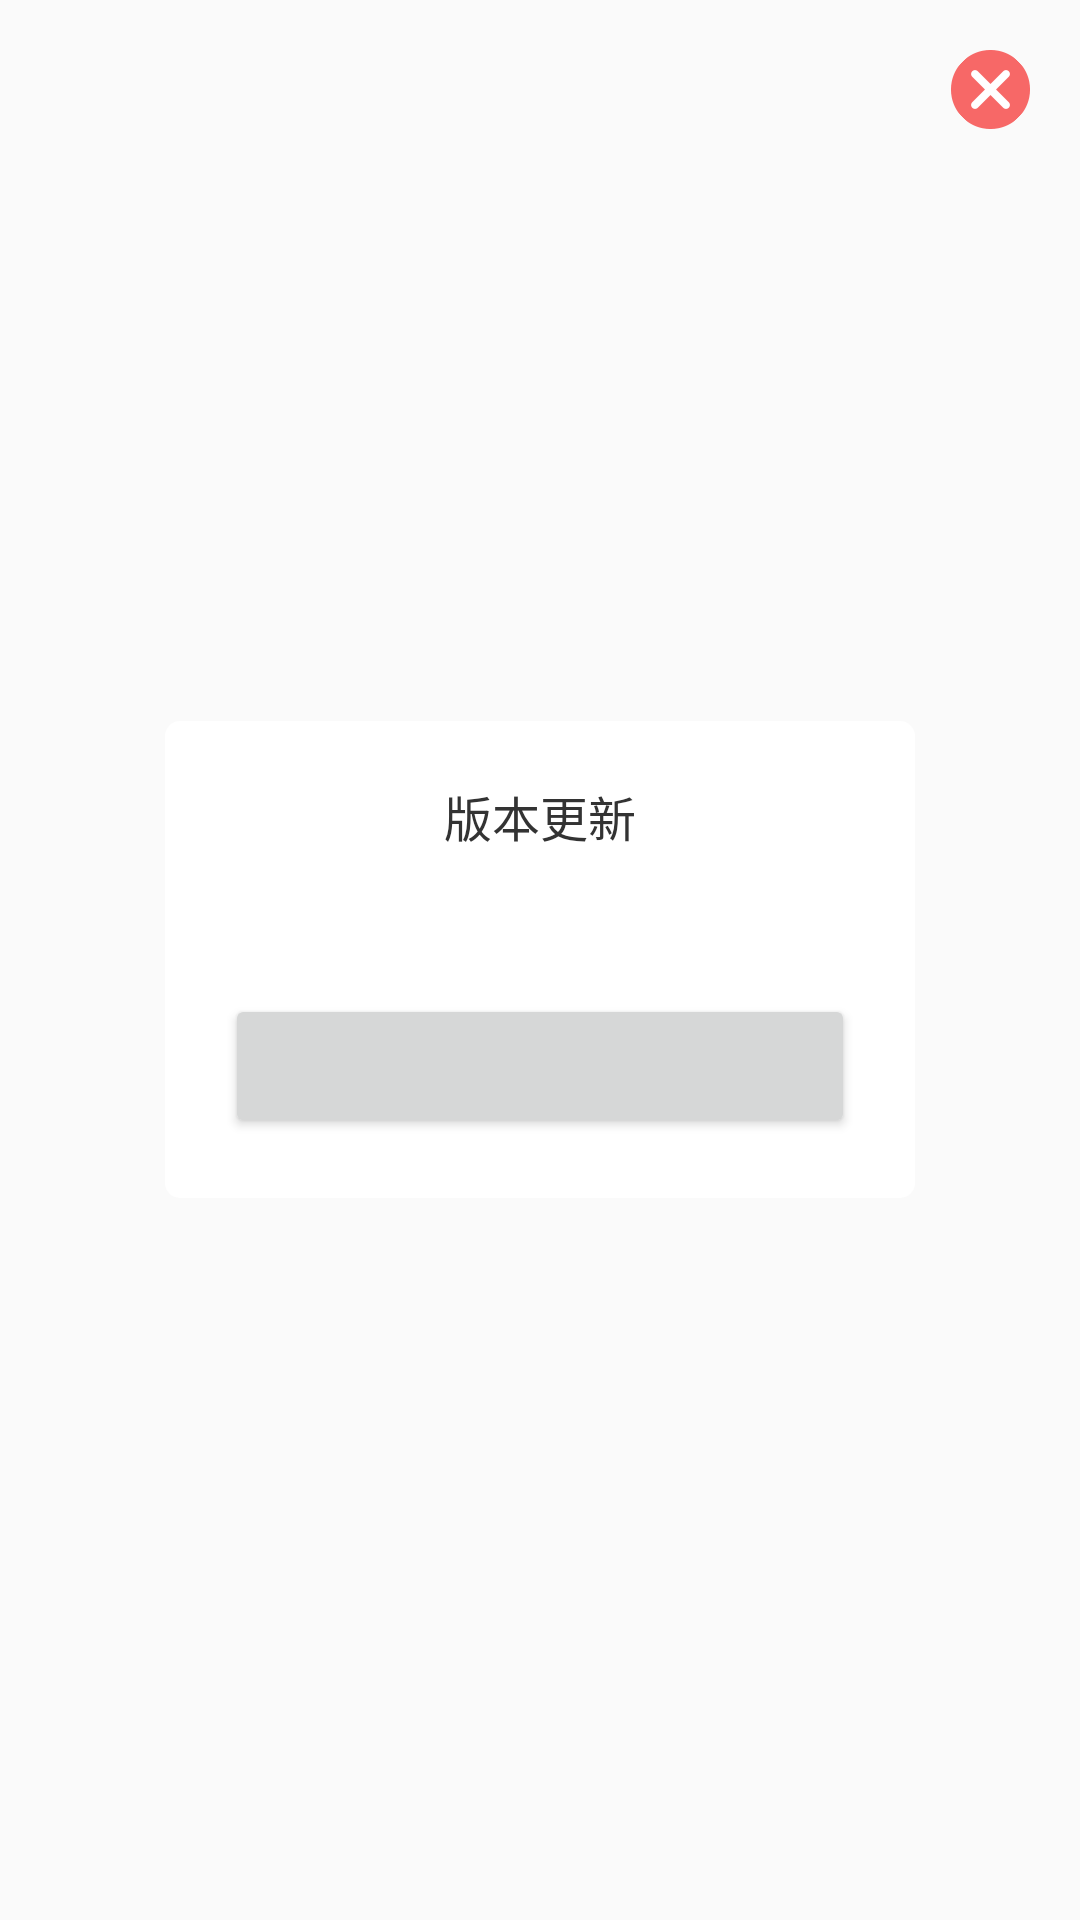

Icons on this 1080*1920 Android screen, each with its box as (x1, y1, x2, y2):
target adv delete: (951, 50, 1030, 129)
